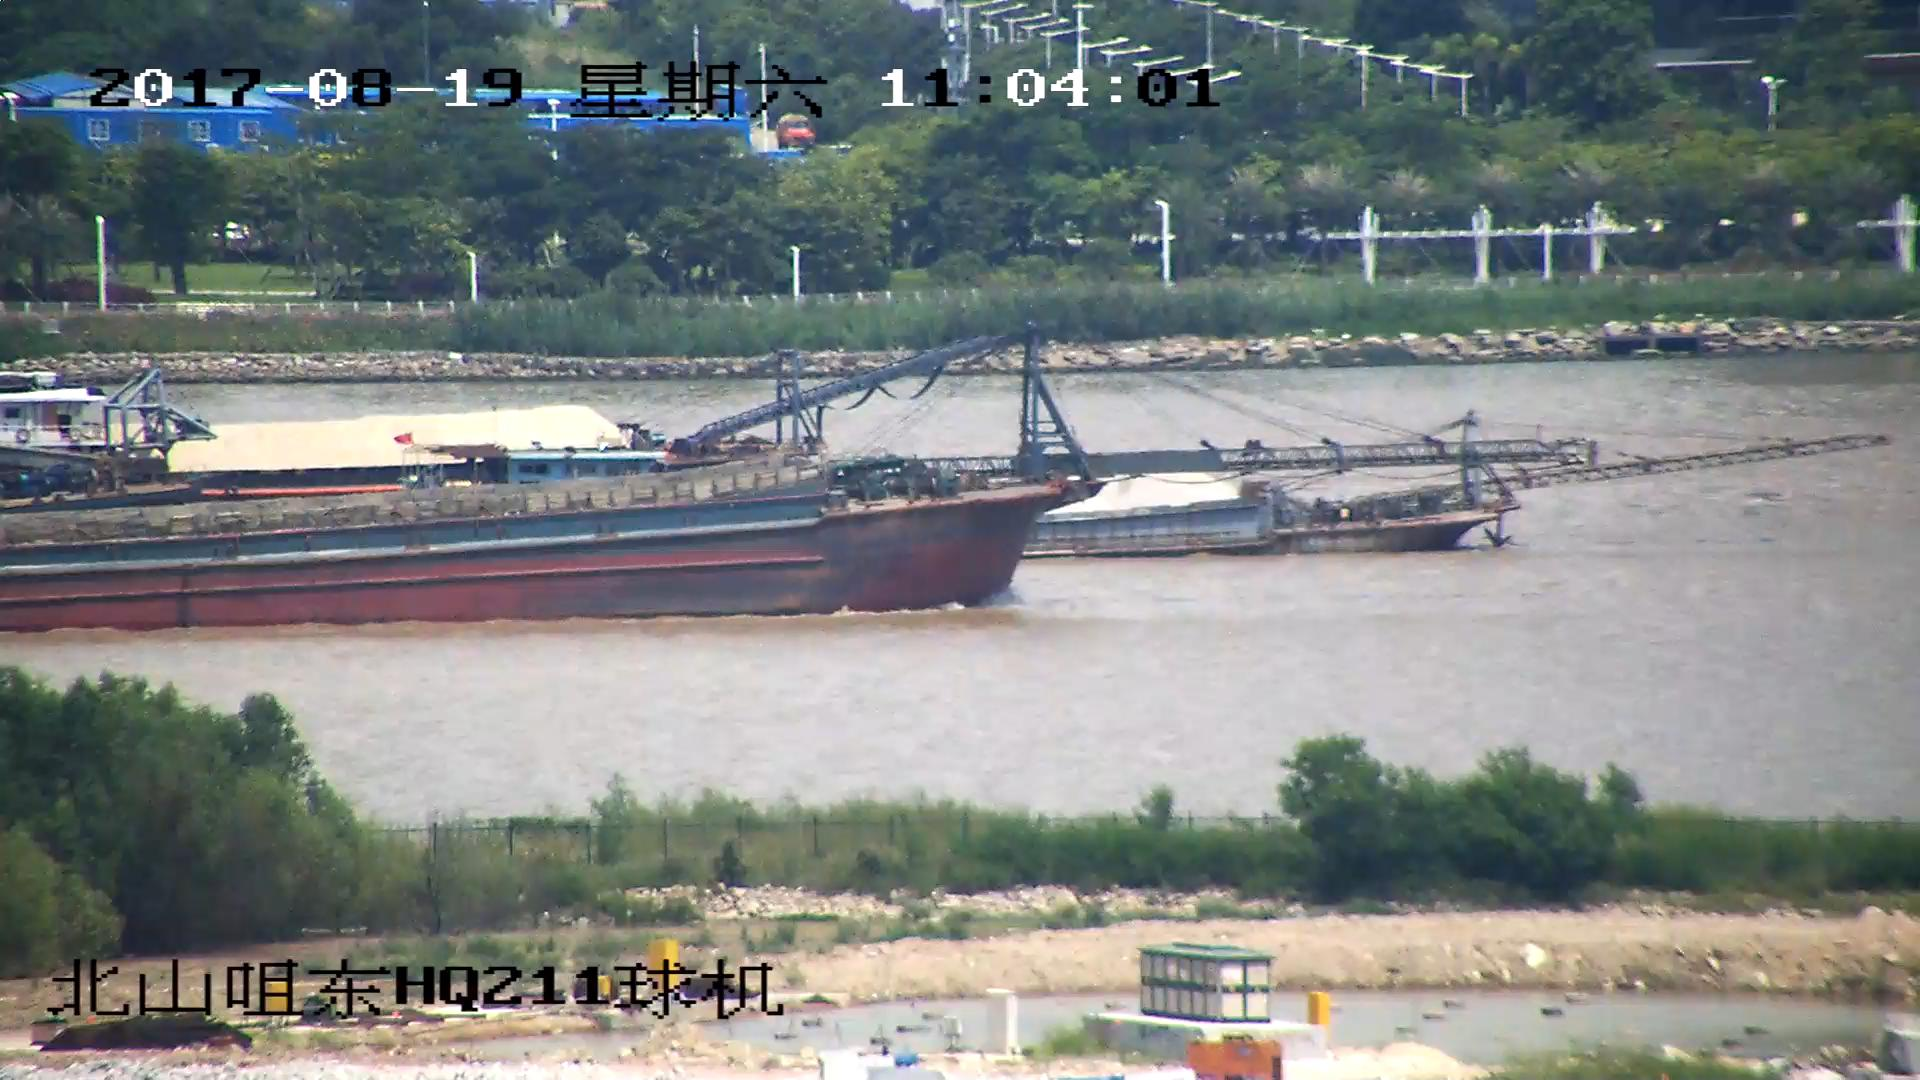bulk cargo carrier: (1, 330, 1478, 634)
ore carrier: (437, 430, 1888, 560), (1, 331, 1025, 490)
